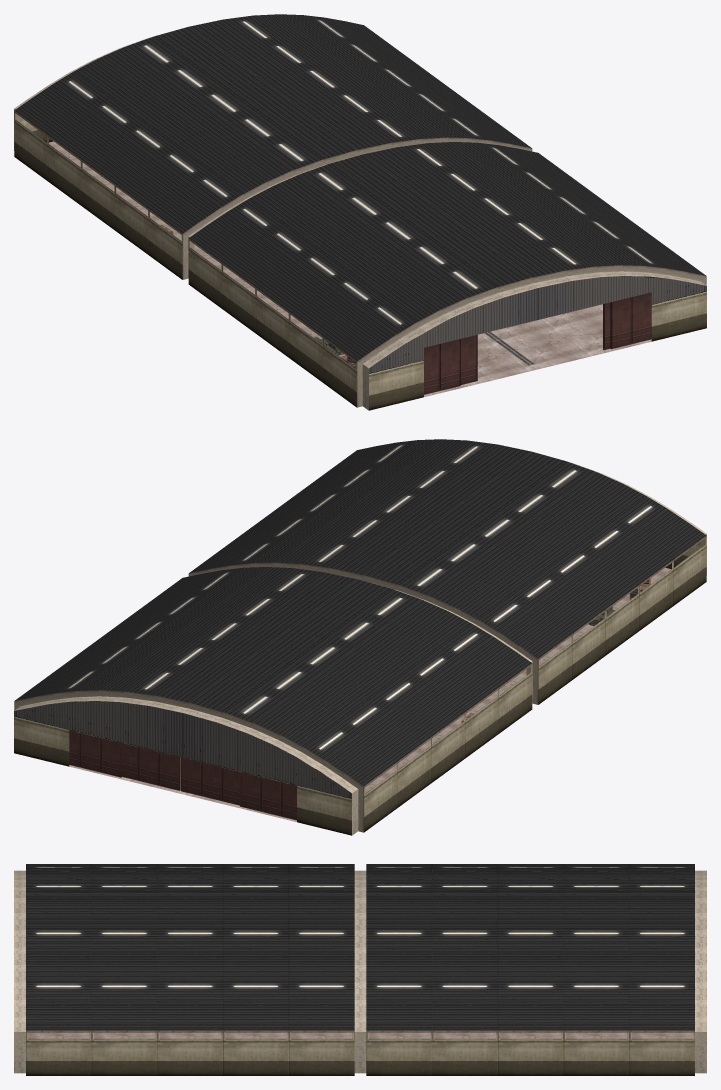
The model's file is Hangar.fbx.
3 views of the same model, one above another, from view 1: azimuth 30°, elevation 25°; view 2: azimuth 150°, elevation 25°; view 3: azimuth 270°, elevation 25° (orthographic). The views are drawn at different scales.
Parts seen in each view (by area): view 1: Hangar; view 2: Hangar, Hangar.001; view 3: Hangar, Hangar.001.
Boxes of the visible parts, x1,y1,x2,y2 form: Hangar: [14, 14, 706, 410]; Hangar: [15, 439, 706, 832]; Hangar.001: [14, 690, 364, 835]; Hangar: [14, 864, 694, 1075]; Hangar.001: [695, 870, 706, 1073].
Size of the model in its own units: 5999 by 1440 by 10540.
